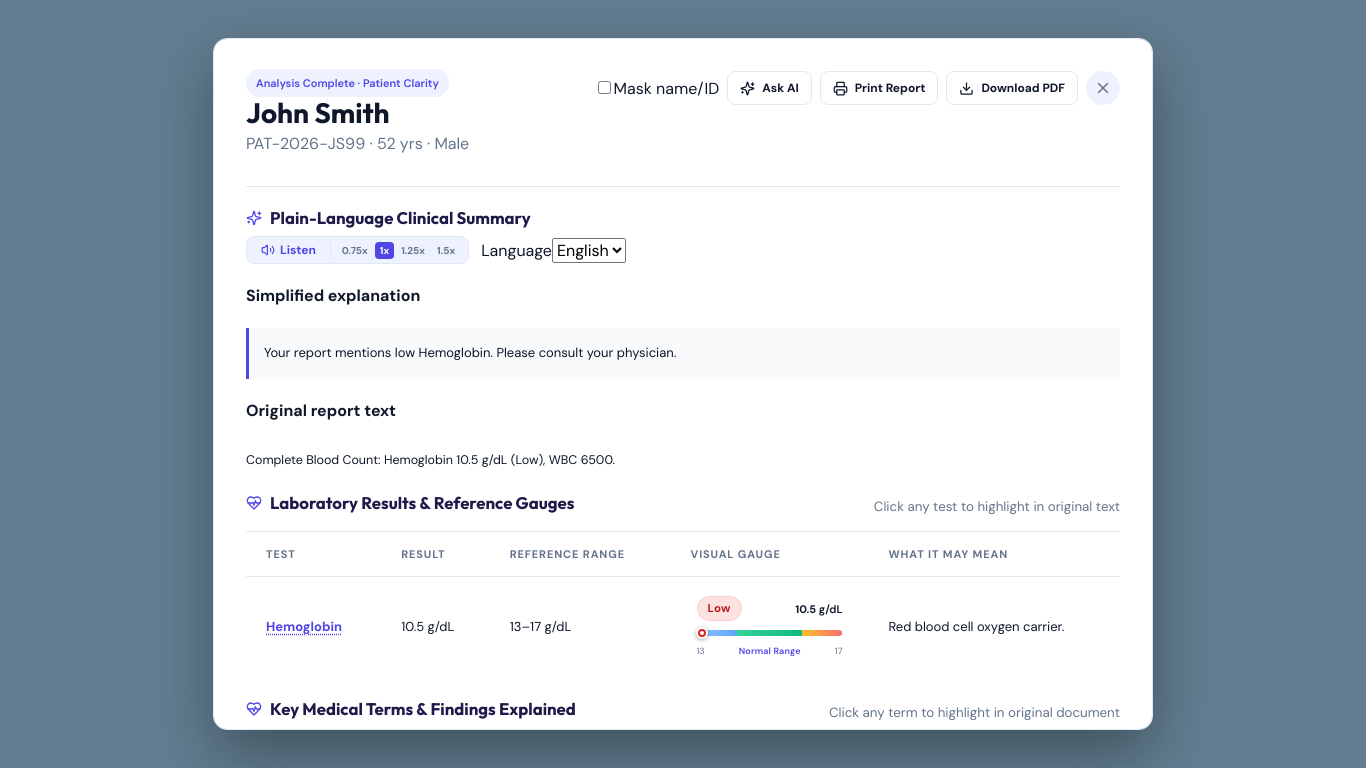
Test case: ResultView Component › masks sensitive patient information when toggle is clicked
The width and height of the screenshot is (1366, 768).
Expected: the heading "John Smith" is shown, [246,95,390,130]
Click the checkbox labelled "Mask name/ID" at (604, 87), box [598,81,611,94]
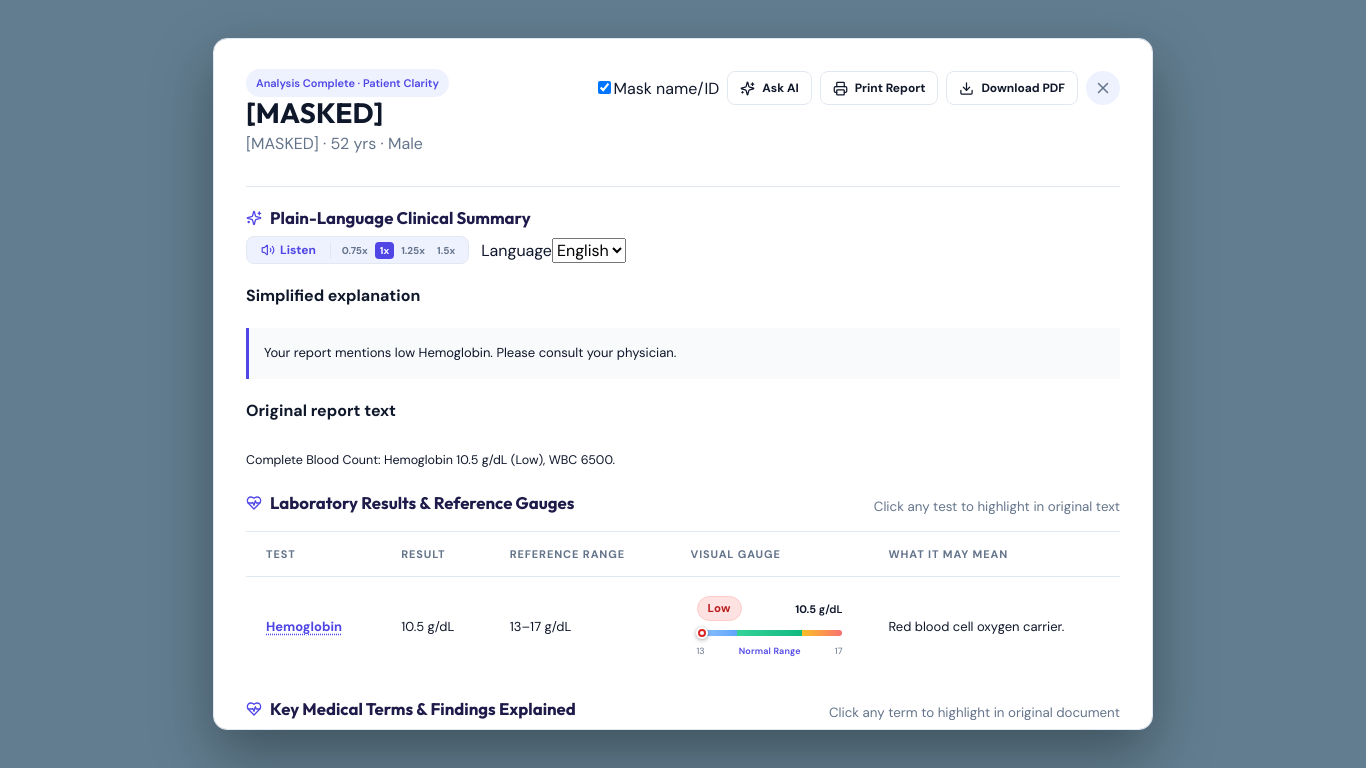
Expected: the heading "[MASKED]" is shown, [246,95,383,130]
Now the heading "John Smith" is gone
